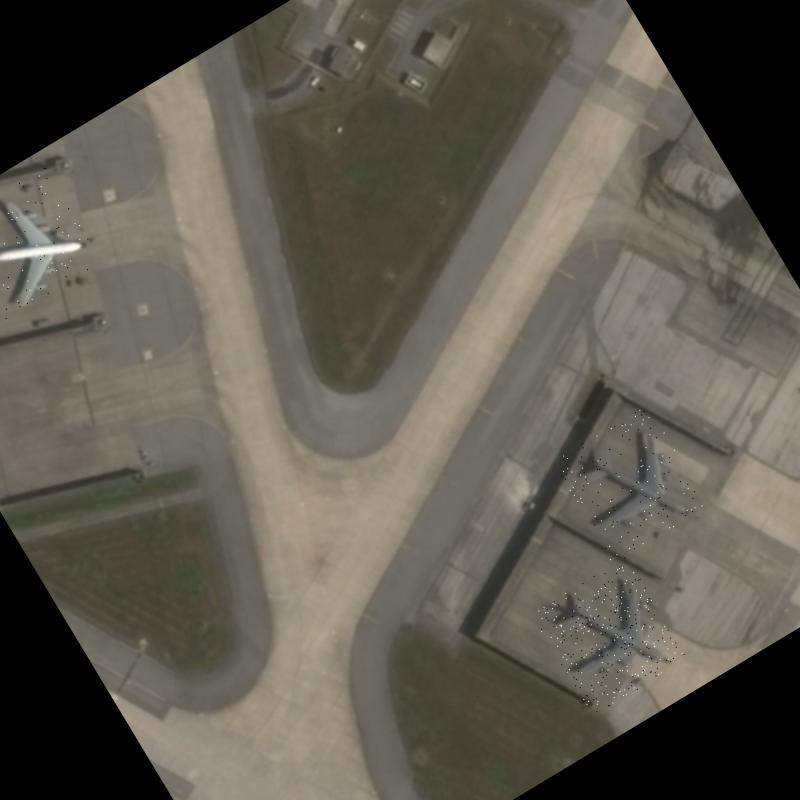A11: (0, 166, 102, 322)
A14: (530, 556, 688, 716), (551, 403, 708, 563)
